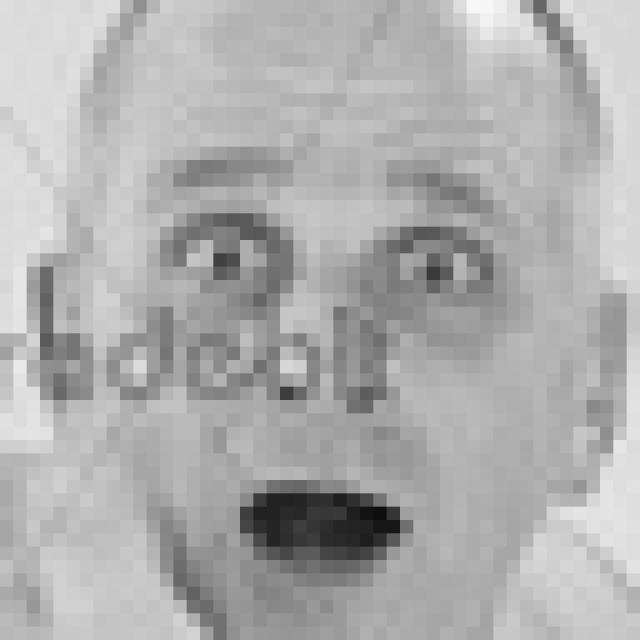surprise: (141, 139, 530, 592)
